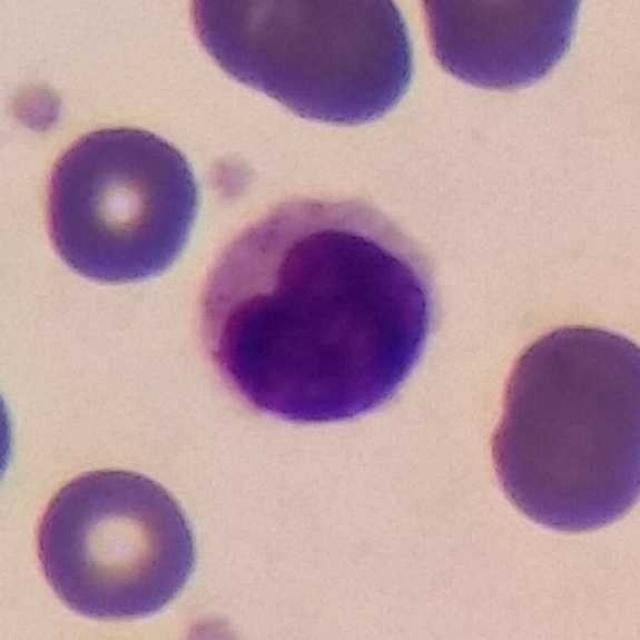Lymphocyte: (180, 183, 456, 445)
Platelets: (1, 76, 65, 136), (195, 151, 252, 204)
RBC: (476, 312, 640, 541), (32, 112, 210, 295), (183, 0, 422, 134), (23, 456, 207, 630), (406, 0, 599, 105), (163, 607, 288, 640)
